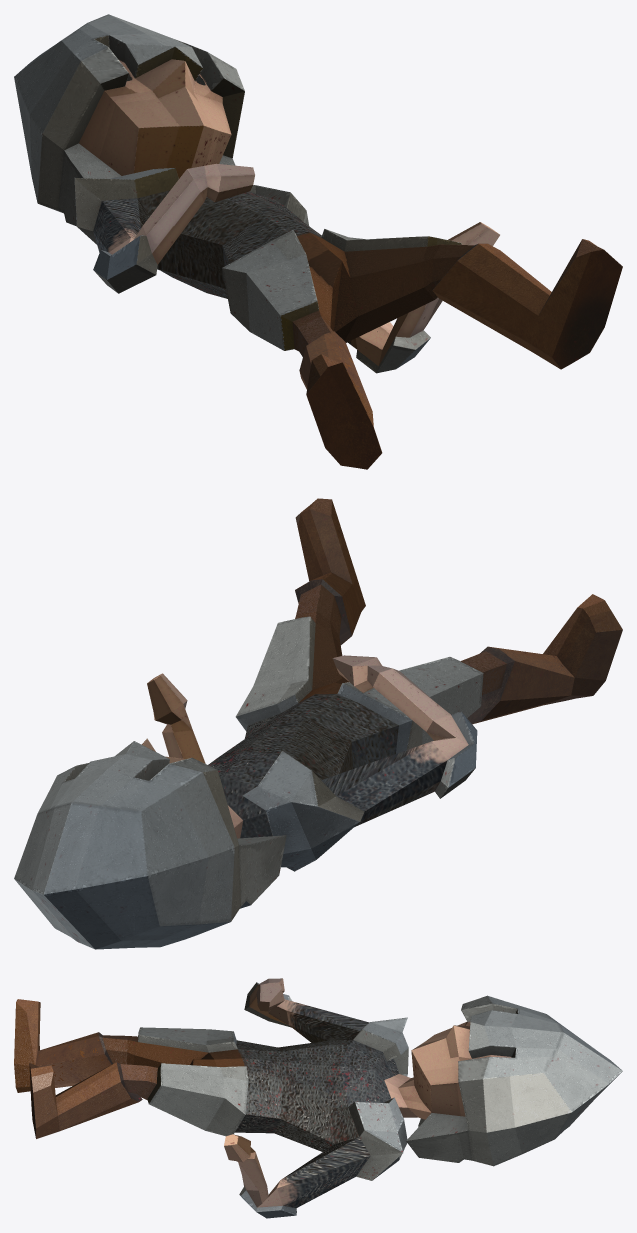
File: Walk_Soldier_11.obj
3 views of the same model, one above another, from view 1: azimuth 30°, elevation 25°; view 2: azimuth 150°, elevation 25°; view 3: azimuth 270°, elevation 25° (orthographic). The views are drawn at different scales.
Parts seen in each view (by area): view 1: Soldado_LowPolySTD; view 2: Soldado_LowPolySTD; view 3: Soldado_LowPolySTD.
Boxes of the visible parts, <box> form: Soldado_LowPolySTD: <box>14,14,622,469</box>; Soldado_LowPolySTD: <box>14,498,622,949</box>; Soldado_LowPolySTD: <box>14,978,622,1218</box>.
Bounding box in the file's own units: 0.7815 × 0.5038 × 1.6.
